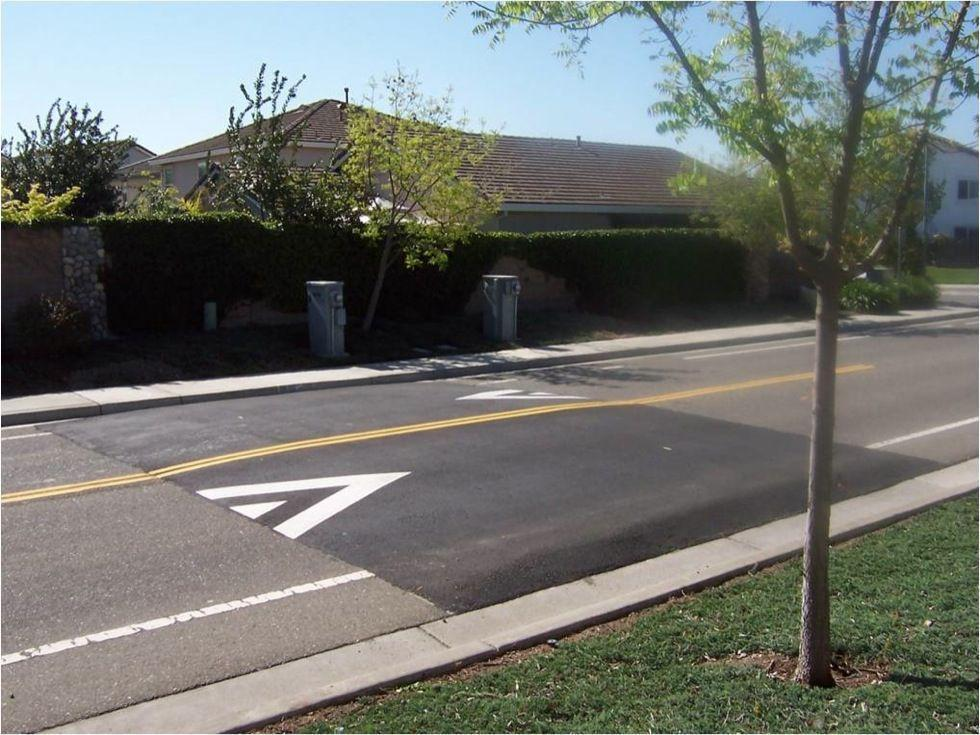speedbreaker: (46, 385, 908, 613)
